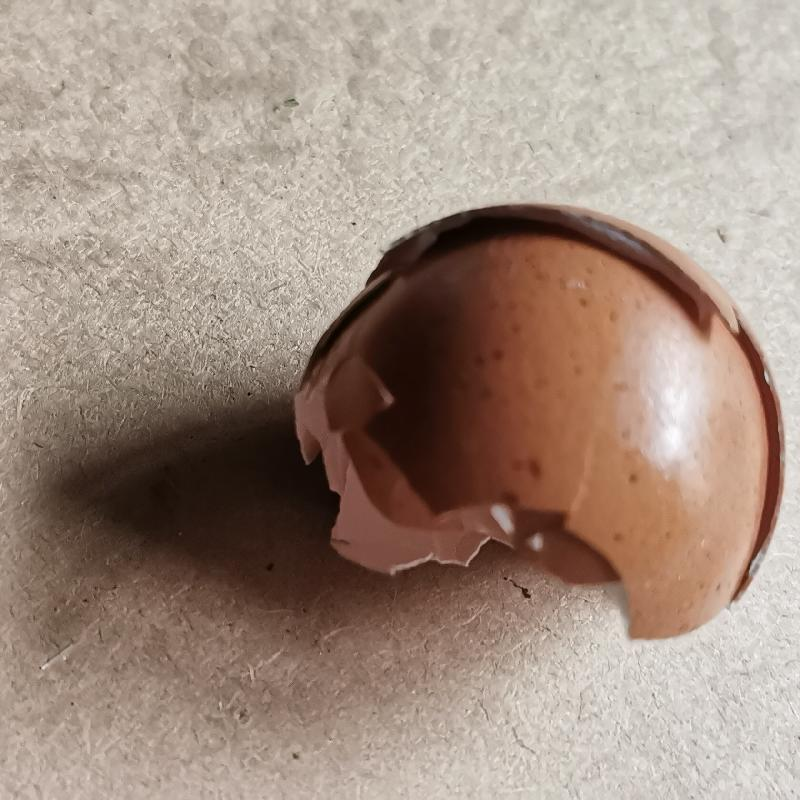eggshell: (287, 200, 785, 649)
